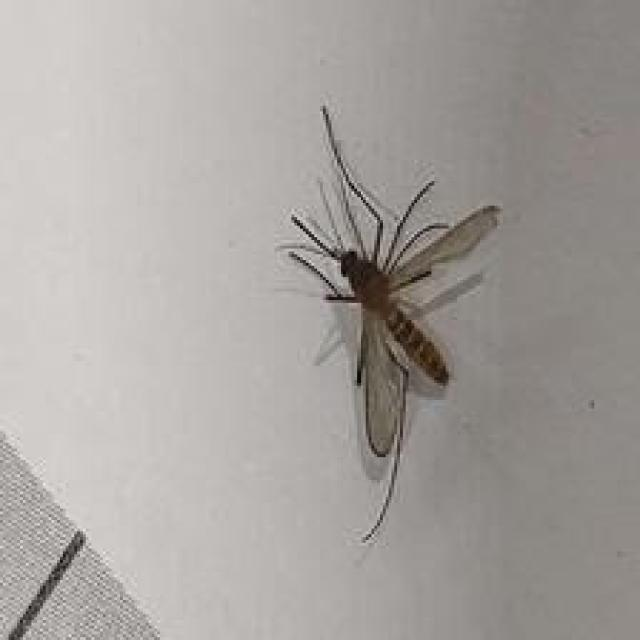Culex: (274, 101, 503, 544)
